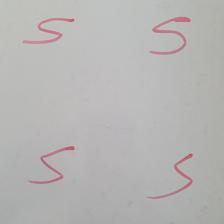chromosomal-locus: (146, 153, 193, 200), (28, 145, 77, 185), (149, 16, 191, 55), (22, 16, 75, 45)
